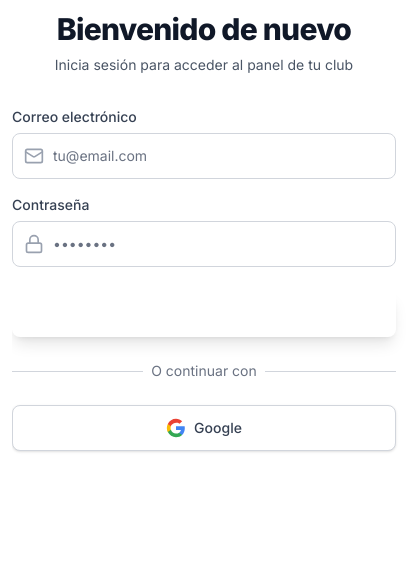
Test: LoginForm › displays error message on failure
Type "wrong@example.com" into the field labelled "Correo electrónico".
click(204, 156); type("wrong@example.com")  # box 12,133 -> 396,179
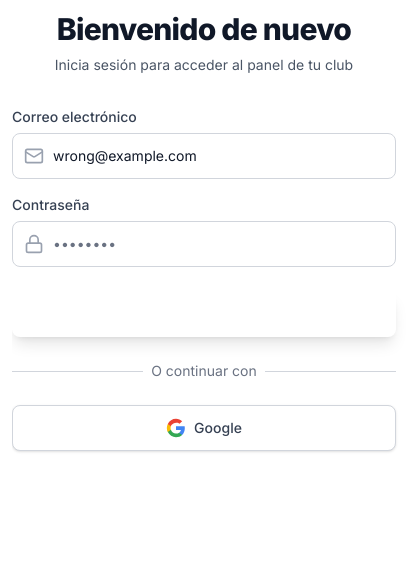
Type "wrongpass" into the password field labelled "Contraseña".
click(204, 244); type("wrongpass")  # box 12,221 -> 396,267
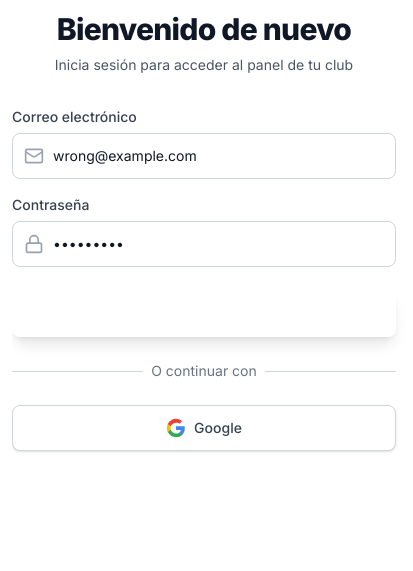
Click the button "Iniciar Sesión".
click(204, 314)  # box 12,291 -> 396,337
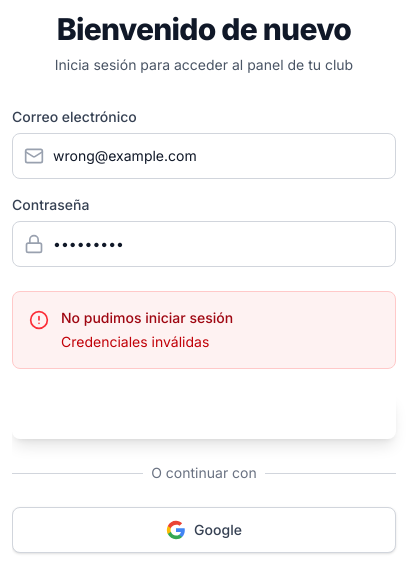
Check: the text "Credenciales inválidas" is shown, box 61,332 -> 233,352
